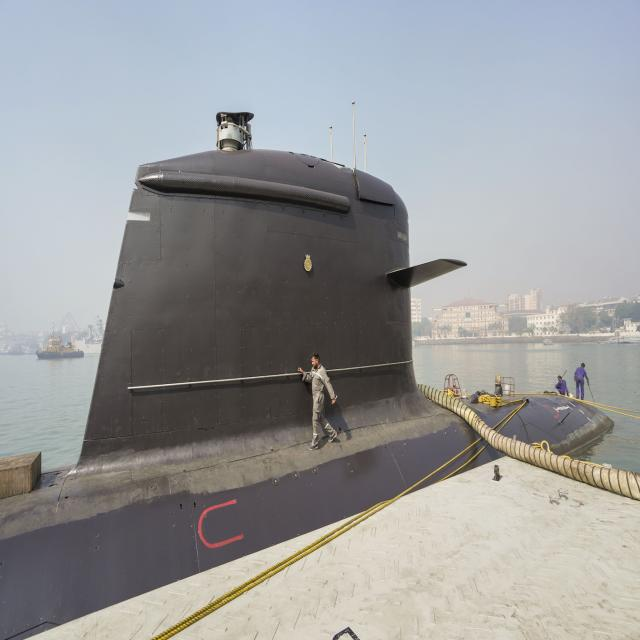Submarine-Kalvari-Class-IND: (1, 99, 596, 593)
